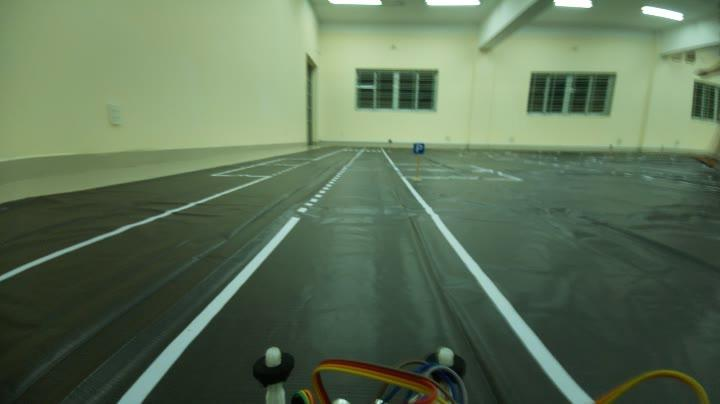parking: (411, 140, 427, 159)
